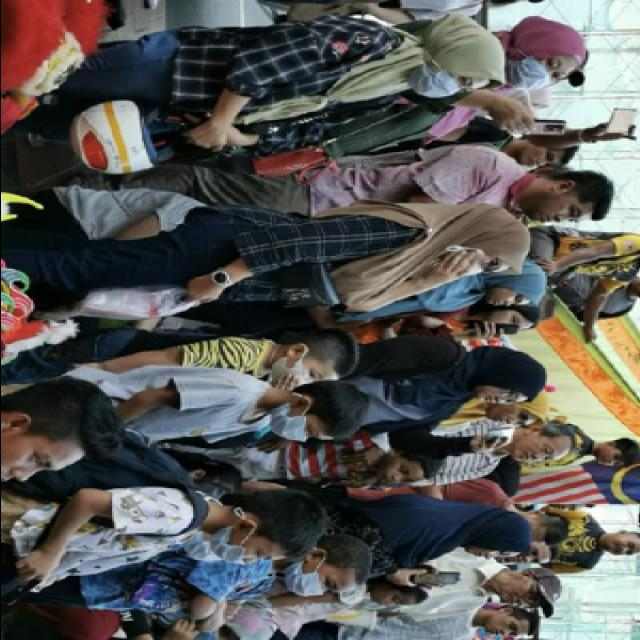mask: (406, 67, 478, 99), (282, 563, 344, 600), (512, 58, 570, 92), (268, 413, 326, 443), (273, 362, 329, 388), (444, 256, 506, 275)
no_mask: (2, 432, 60, 486), (209, 528, 275, 566), (529, 195, 587, 224), (499, 582, 544, 612), (514, 438, 559, 464), (378, 459, 420, 486), (486, 408, 534, 429), (478, 388, 525, 407), (518, 146, 558, 168), (484, 616, 522, 638), (372, 590, 409, 612), (491, 312, 527, 333), (510, 547, 544, 568), (488, 291, 526, 309), (467, 548, 514, 562), (595, 449, 627, 468), (595, 446, 621, 468)
